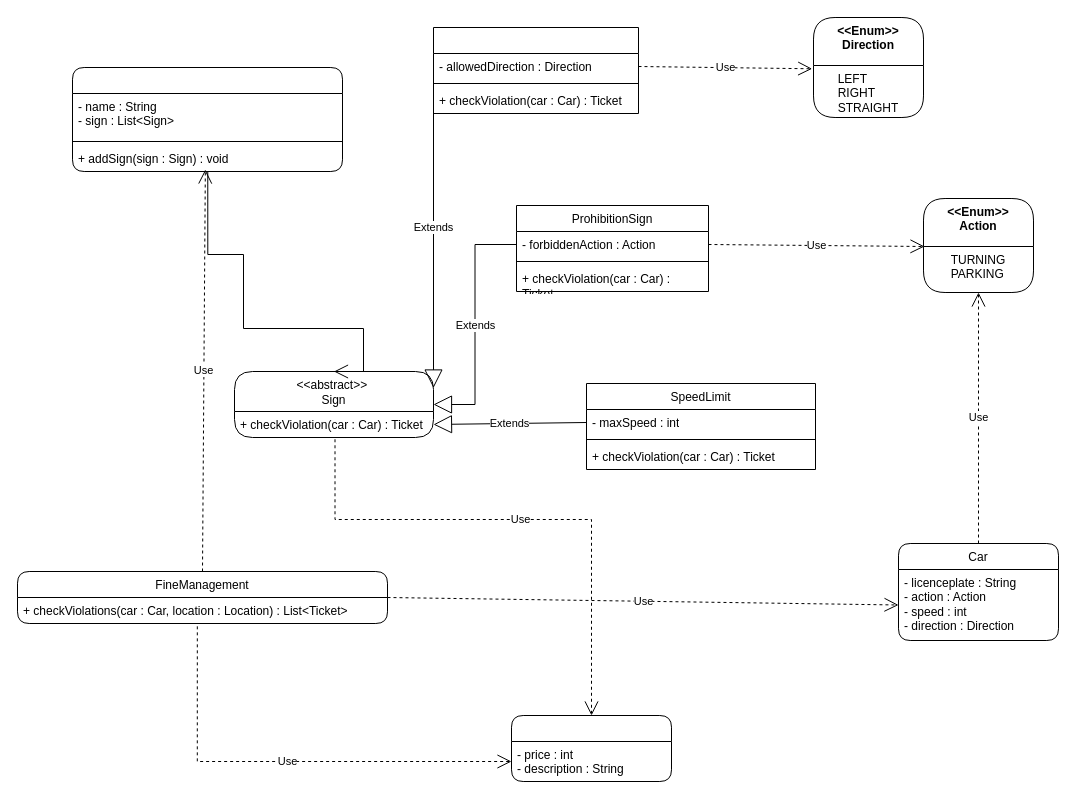
The diagram is 1076 pixels wide and 802 high, and some of its shapes have lost their labels. The shapes that lost their labels are listed below. From the top down, each one's box as (x1, y1, x2, y2) in pixels, then its label:
(432, 26, 638, 114): DirectionSign
(72, 66, 342, 172): Location
(510, 714, 672, 782): Ticket
